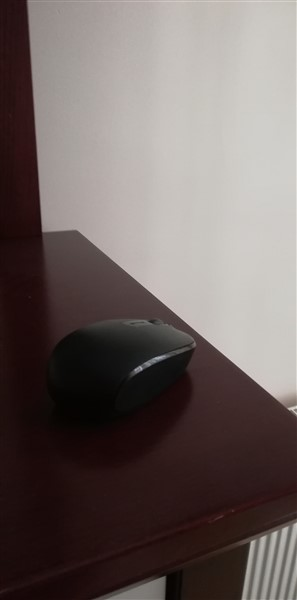mouse: (42, 313, 210, 430)
